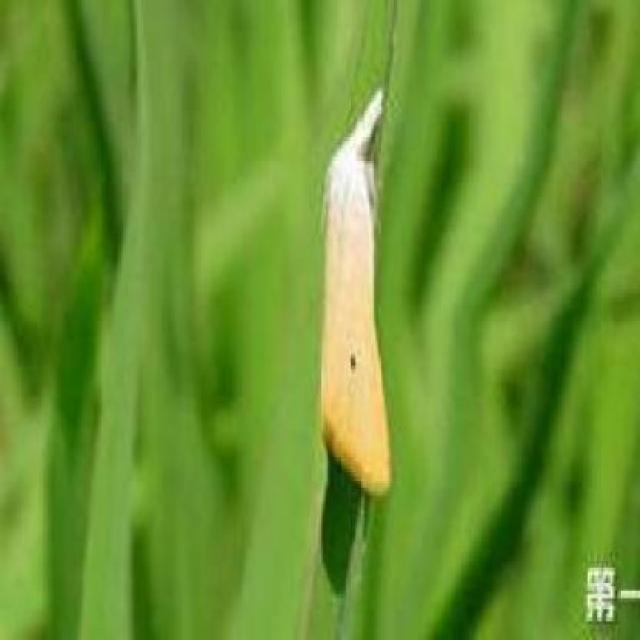stem-borer: (318, 86, 394, 499)
